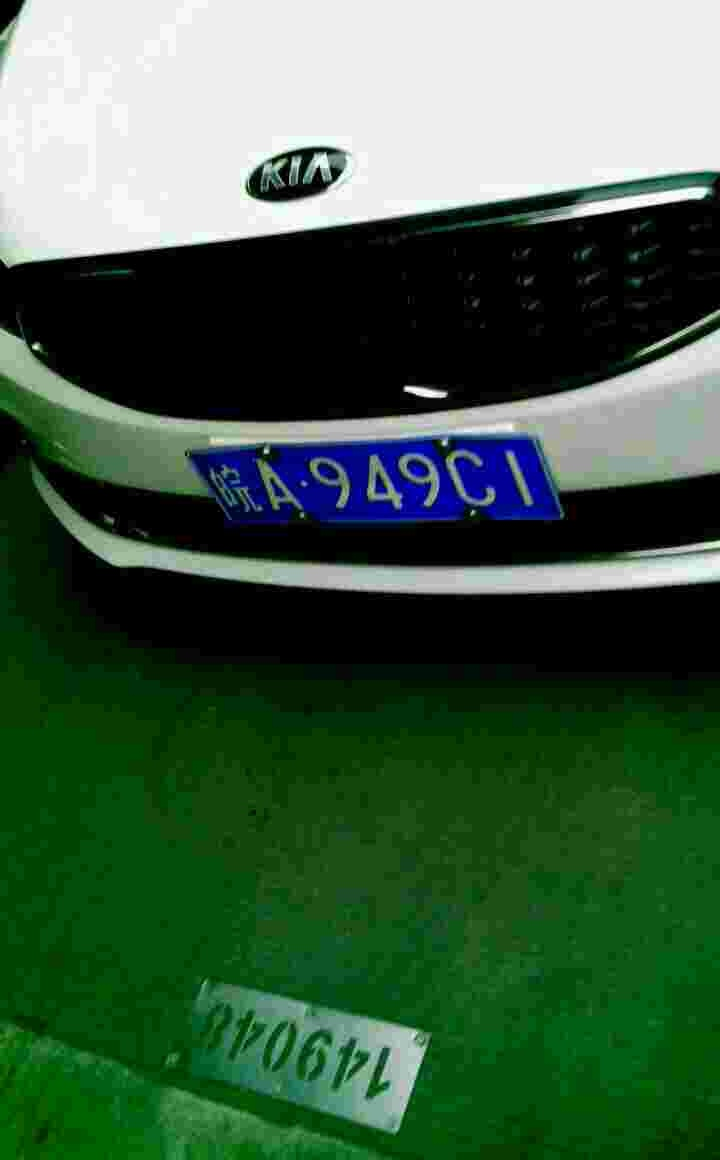license_plate: (202, 429, 558, 541)
